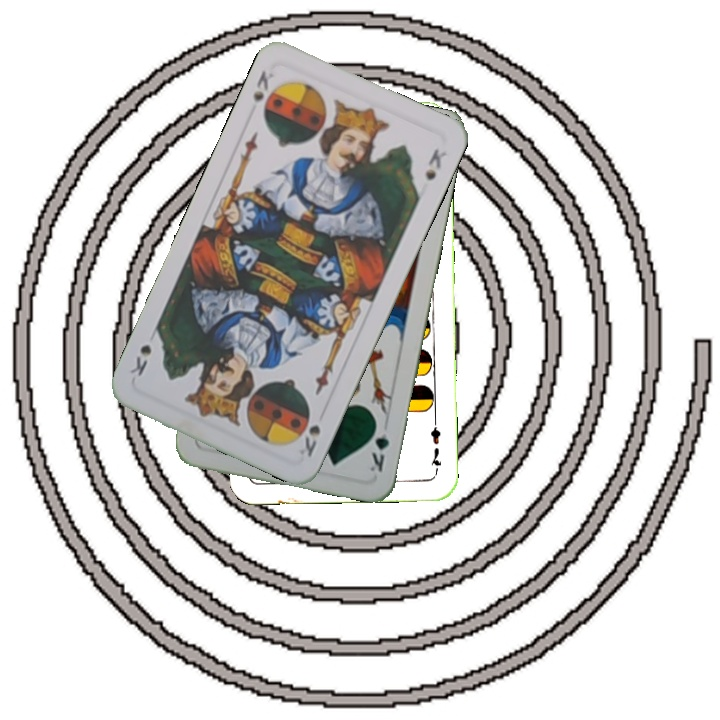E7: (426, 416, 444, 475)
GK: (366, 417, 392, 475)
SK: (295, 410, 323, 460), (248, 66, 277, 105)
